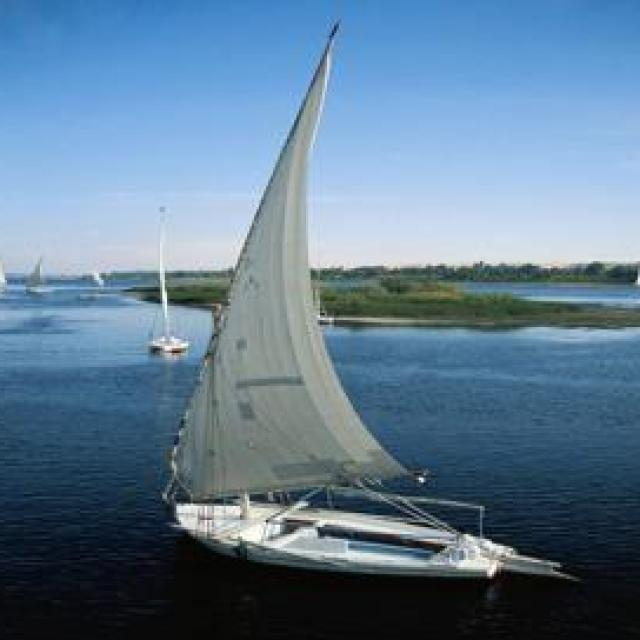sailboat: (172, 5, 547, 581), (146, 202, 187, 356), (25, 245, 54, 298), (0, 249, 12, 299), (628, 261, 640, 294)
